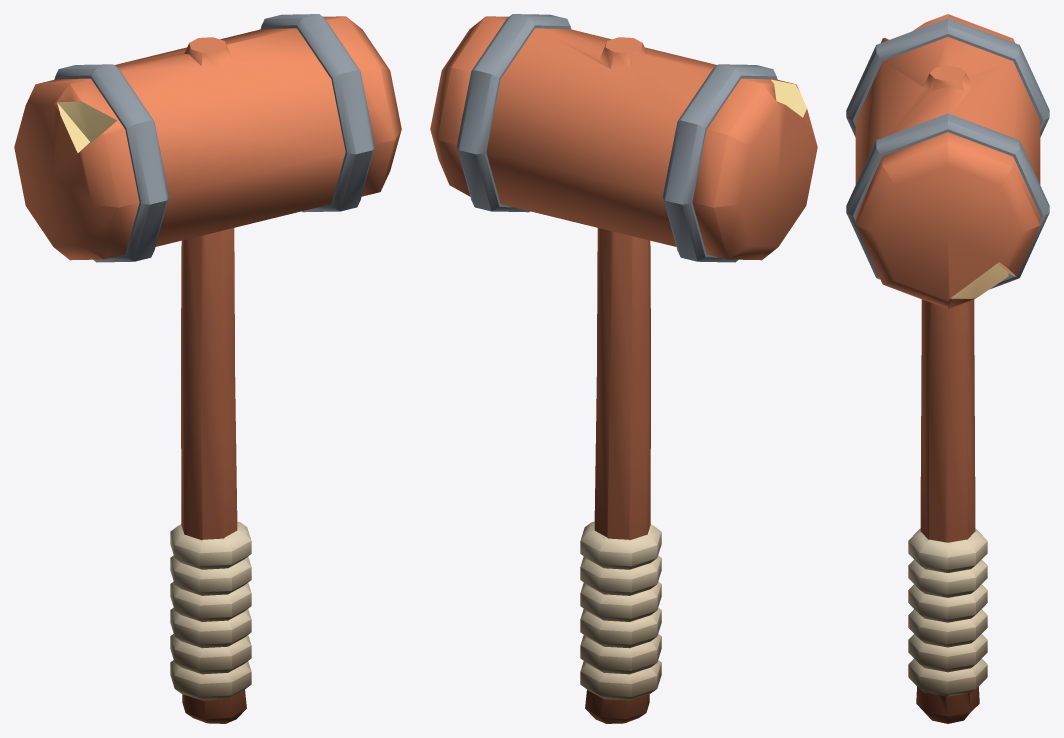
File: hammer_mallet.glb
The picture shows the model from 3 angles, left to right: view 1: azimuth 30°, elevation 25°; view 2: azimuth 150°, elevation 25°; view 3: azimuth 270°, elevation 25°; orthographic projection. The views are drawn at different scales.
Parts seen in each view (by area): view 1: Item; view 2: Item; view 3: Item.
Boxes of the visible parts, <box> form: Item: <box>14,14,401,723</box>; Item: <box>430,14,817,723</box>; Item: <box>846,14,1049,723</box>.
Bounding box in the file's own units: 0.66 × 1.38 × 0.396.
2 materials, 2 textured.
